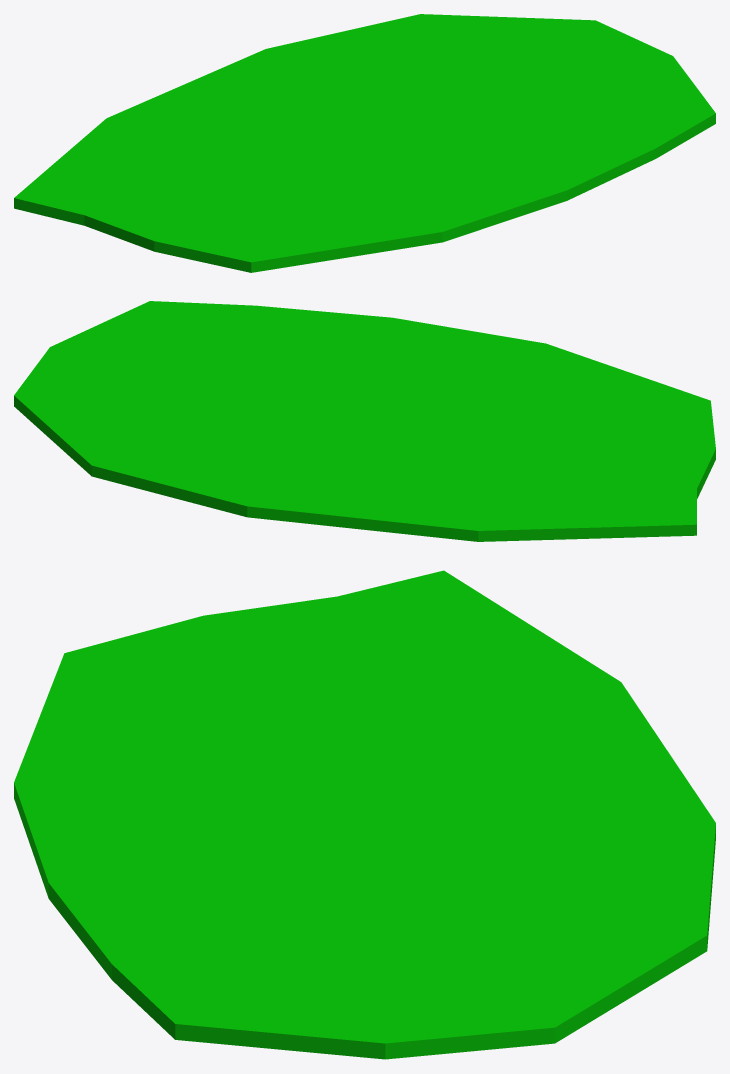
The model's file is Land.FBX.
3 views of the same model, one above another, from view 1: azimuth 30°, elevation 25°; view 2: azimuth 150°, elevation 25°; view 3: azimuth 270°, elevation 25° (orthographic). The views are drawn at different scales.
Parts seen in each view (by area): view 1: Green_platform; view 2: Green_platform; view 3: Green_platform.
Boxes of the visible parts, x1,y1,x2,y2 form: Green_platform: [14, 14, 715, 272]; Green_platform: [14, 301, 715, 541]; Green_platform: [14, 570, 715, 1059].
Size of the model in its own units: 505 by 7.95 by 317.
